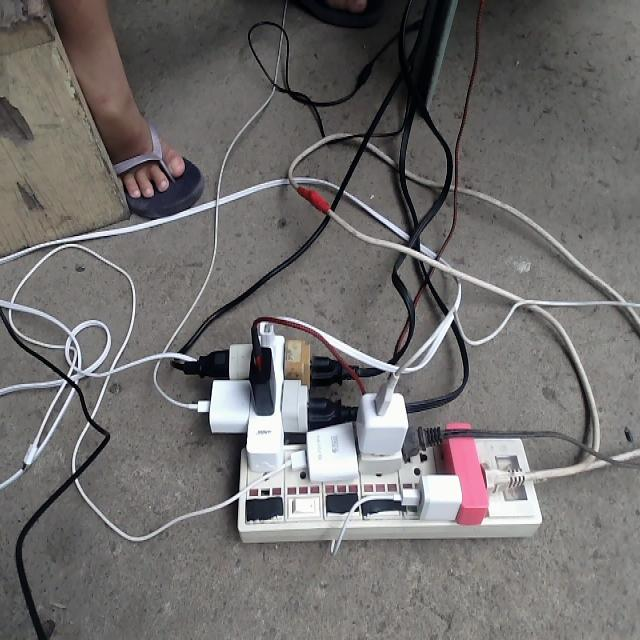-: (173, 310, 545, 542)
